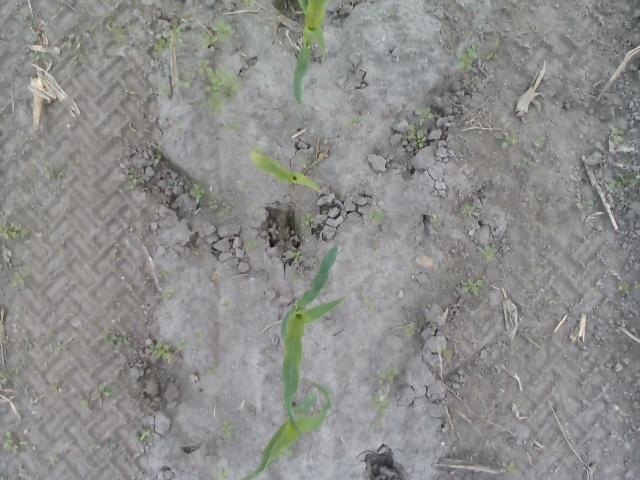Maize: (278, 246, 347, 438), (236, 380, 330, 480), (292, 0, 326, 106), (250, 150, 325, 194)
Weeds: (198, 58, 241, 114), (366, 366, 401, 433), (199, 13, 235, 50), (152, 22, 188, 54), (101, 16, 131, 44), (461, 268, 490, 296), (403, 122, 428, 152), (16, 15, 48, 35), (144, 343, 174, 364), (0, 430, 31, 450), (0, 222, 32, 241), (454, 46, 477, 72), (607, 174, 640, 192), (7, 270, 32, 290), (408, 106, 434, 125), (100, 330, 130, 346), (175, 63, 193, 89), (62, 31, 84, 51), (222, 418, 240, 442), (127, 164, 142, 192), (498, 131, 520, 150), (478, 244, 498, 264), (496, 459, 520, 475), (461, 200, 482, 218), (222, 117, 242, 134), (43, 165, 64, 181), (343, 115, 368, 128), (190, 183, 207, 202), (368, 207, 384, 225), (300, 212, 318, 228), (286, 249, 306, 262), (617, 279, 640, 290), (136, 429, 154, 443), (214, 466, 232, 480), (362, 296, 376, 314), (160, 79, 172, 99), (544, 292, 561, 306), (404, 322, 418, 339), (176, 336, 192, 350), (96, 383, 112, 397), (193, 328, 206, 344), (612, 128, 624, 145), (216, 205, 233, 216), (22, 134, 39, 145), (0, 372, 11, 388), (576, 198, 592, 209), (163, 288, 175, 302), (29, 52, 43, 64), (84, 23, 98, 35), (483, 50, 498, 61), (528, 263, 546, 272), (152, 144, 162, 160), (238, 176, 248, 192), (47, 453, 59, 466), (532, 134, 546, 145), (222, 298, 232, 313), (80, 398, 92, 410), (623, 198, 635, 210), (244, 240, 258, 250), (24, 335, 32, 352), (240, 0, 257, 8), (48, 384, 63, 393), (298, 159, 310, 170), (390, 254, 402, 265), (517, 158, 530, 168), (440, 348, 450, 361), (71, 159, 82, 170), (56, 341, 66, 353), (591, 286, 601, 298), (30, 34, 40, 45), (430, 212, 440, 223), (208, 368, 220, 377), (406, 264, 417, 273), (16, 366, 24, 378), (158, 270, 168, 279), (534, 335, 543, 344), (493, 39, 501, 49), (387, 8, 396, 16), (616, 414, 624, 423)
